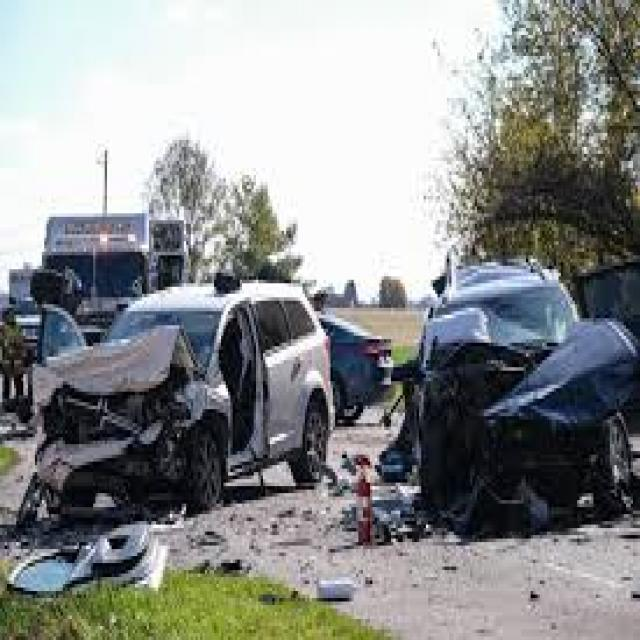accident: (8, 241, 624, 552), (24, 289, 340, 529), (386, 258, 632, 518)
